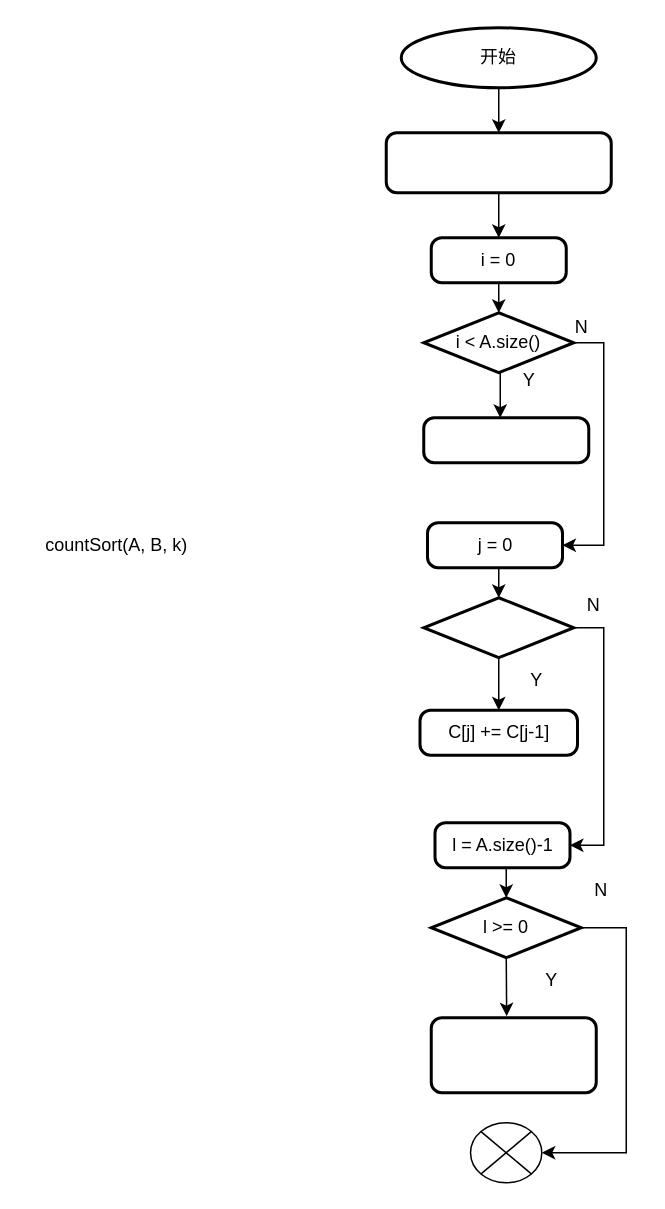
The diagram is 665 pixels wide and 1209 high, and some of its shapes have lost their labels. Here are the shapes that lost their labels. From the top down, the box of each, then its label:
(384, 130, 612, 194): // 初始化数组C[k] = {0..0} vector<int> C(k, 0)
(422, 416, 590, 464): C[A[i]] += 1
(422, 596, 574, 658): j < k
(429, 1016, 597, 1094): B[C[A[l]]-1] = A[l] C[A[l]]--
